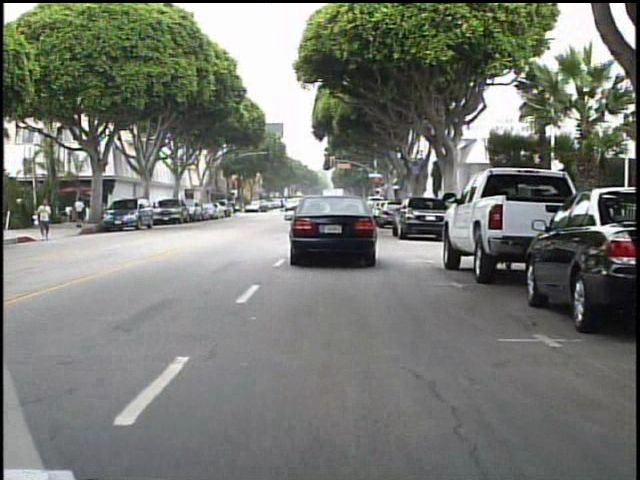person: (37, 195, 59, 242), (75, 194, 92, 230), (226, 196, 242, 220), (282, 192, 288, 216)
